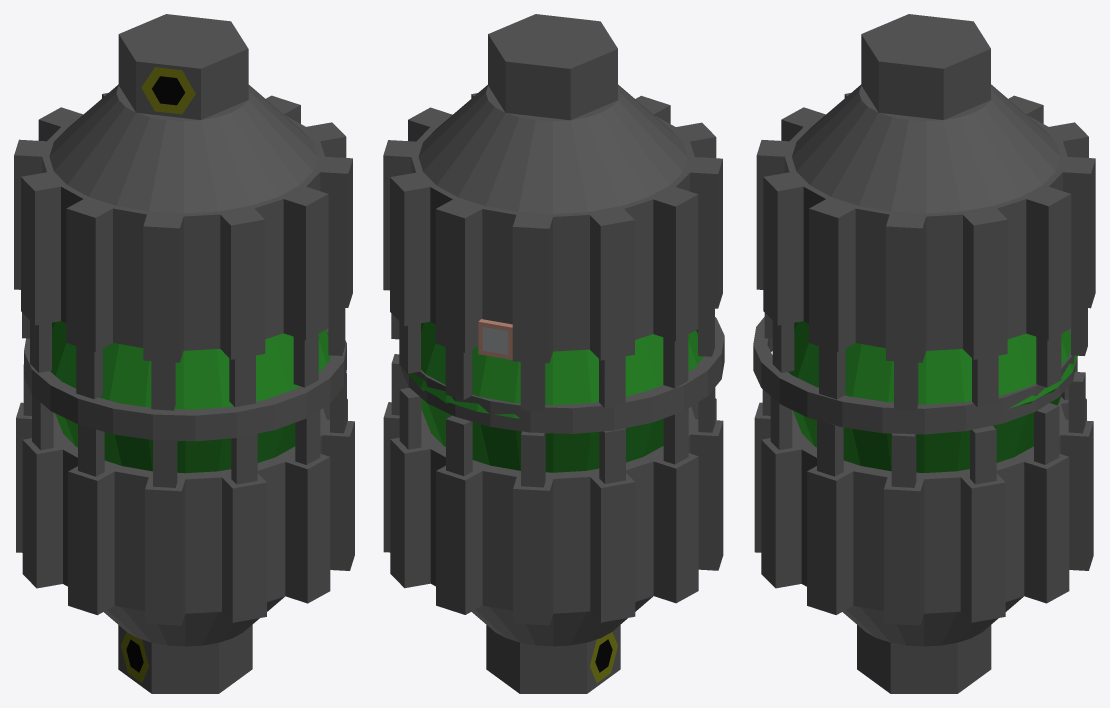
File: Reactor_1.obj
3 views of the same model, side by side, from view 1: azimuth 30°, elevation 25°; view 2: azimuth 150°, elevation 25°; view 3: azimuth 270°, elevation 25° (orthographic).
Parts seen in each view (by area): view 1: Reactor_1-COM-Group_1-2692-metal031, Reactor_1-GRP-2430-4972-v6, Reactor_1-GRP-3538-metal031, Reactor_1-COM-Group_1-6447-5203-v3, Reactor_1-COM-Group_1-6447-Material2, Reactor_1-COM-Group_1-2692-5203-v3; view 2: Reactor_1-COM-Group_1-2692-metal031, Reactor_1-GRP-2430-4972-v6, Reactor_1-GRP-3538-metal031, Reactor_1-GRP-3539-5203, Reactor_1-GRP-3539-Metal_Rough, Reactor_1-COM-Group_1-2692-5203-v3; view 3: Reactor_1-COM-Group_1-2692-metal031, Reactor_1-GRP-2430-4972-v6, Reactor_1-GRP-3538-metal031.
Part boxes in pixels (left/top/right/bottom): Reactor_1-COM-Group_1-2692-metal031: left=14, top=14, right=354, bottom=693; Reactor_1-GRP-2430-4972-v6: left=50, top=321, right=330, bottom=473; Reactor_1-GRP-3538-metal031: left=24, top=328, right=346, bottom=441; Reactor_1-COM-Group_1-6447-5203-v3: left=141, top=67, right=195, bottom=114; Reactor_1-COM-Group_1-6447-Material2: left=152, top=76, right=185, bottom=105; Reactor_1-COM-Group_1-2692-5203-v3: left=121, top=632, right=148, bottom=682; Reactor_1-COM-Group_1-2692-metal031: left=383, top=14, right=723, bottom=693; Reactor_1-GRP-2430-4972-v6: left=406, top=321, right=703, bottom=472; Reactor_1-GRP-3538-metal031: left=401, top=317, right=724, bottom=433; Reactor_1-GRP-3539-5203: left=478, top=319, right=512, bottom=359; Reactor_1-GRP-3539-Metal_Rough: left=482, top=327, right=508, bottom=354; Reactor_1-COM-Group_1-2692-5203-v3: left=590, top=632, right=617, bottom=682; Reactor_1-COM-Group_1-2692-metal031: left=754, top=14, right=1095, bottom=693; Reactor_1-GRP-2430-4972-v6: left=788, top=321, right=1077, bottom=472; Reactor_1-GRP-3538-metal031: left=753, top=317, right=1076, bottom=434.
Size of the model in its own units: 3.66 by 7.46 by 3.69.
